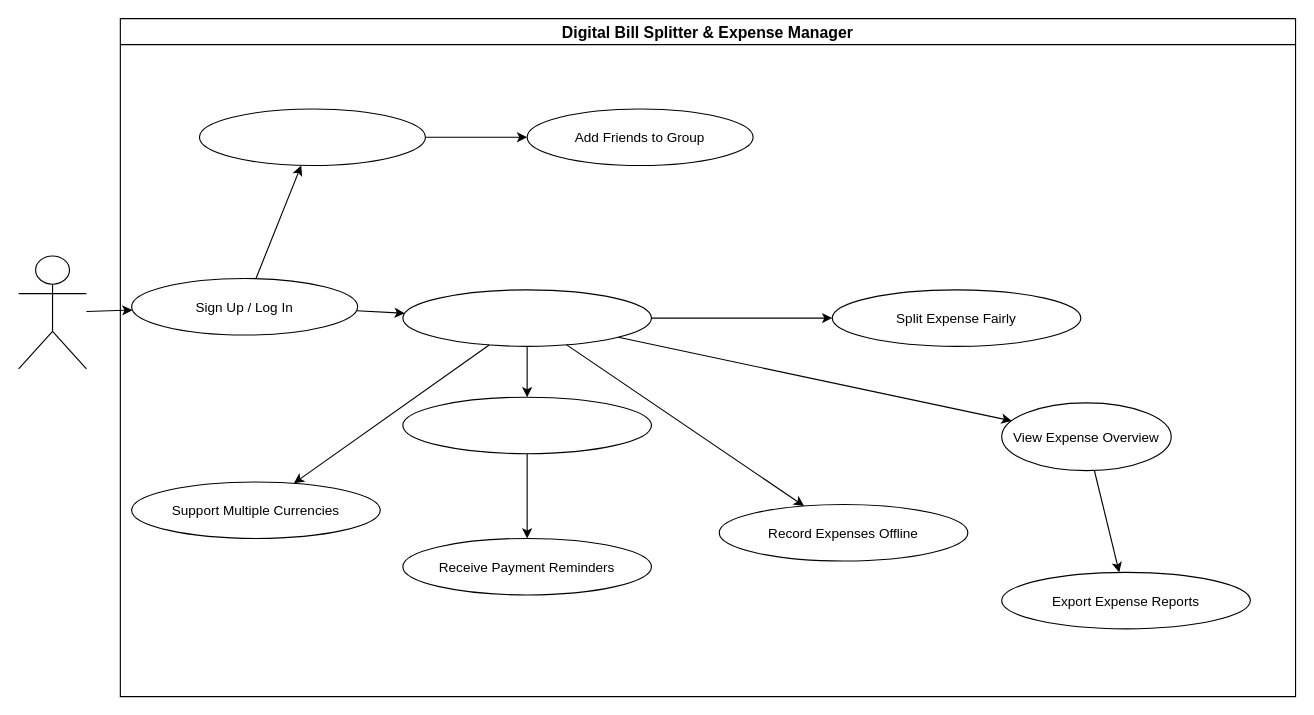
This 1314x715 diagram has some shape labels left out. The centre of each missing label's shape, as x and y in pixels:
"Create Group" belongs at pixel 311 137.
"Enter Expense with Category" belongs at pixel 526 317.
"Log Payments & Settle Debts" belongs at pixel 526 425.
"User" belongs at pixel 52 312.
